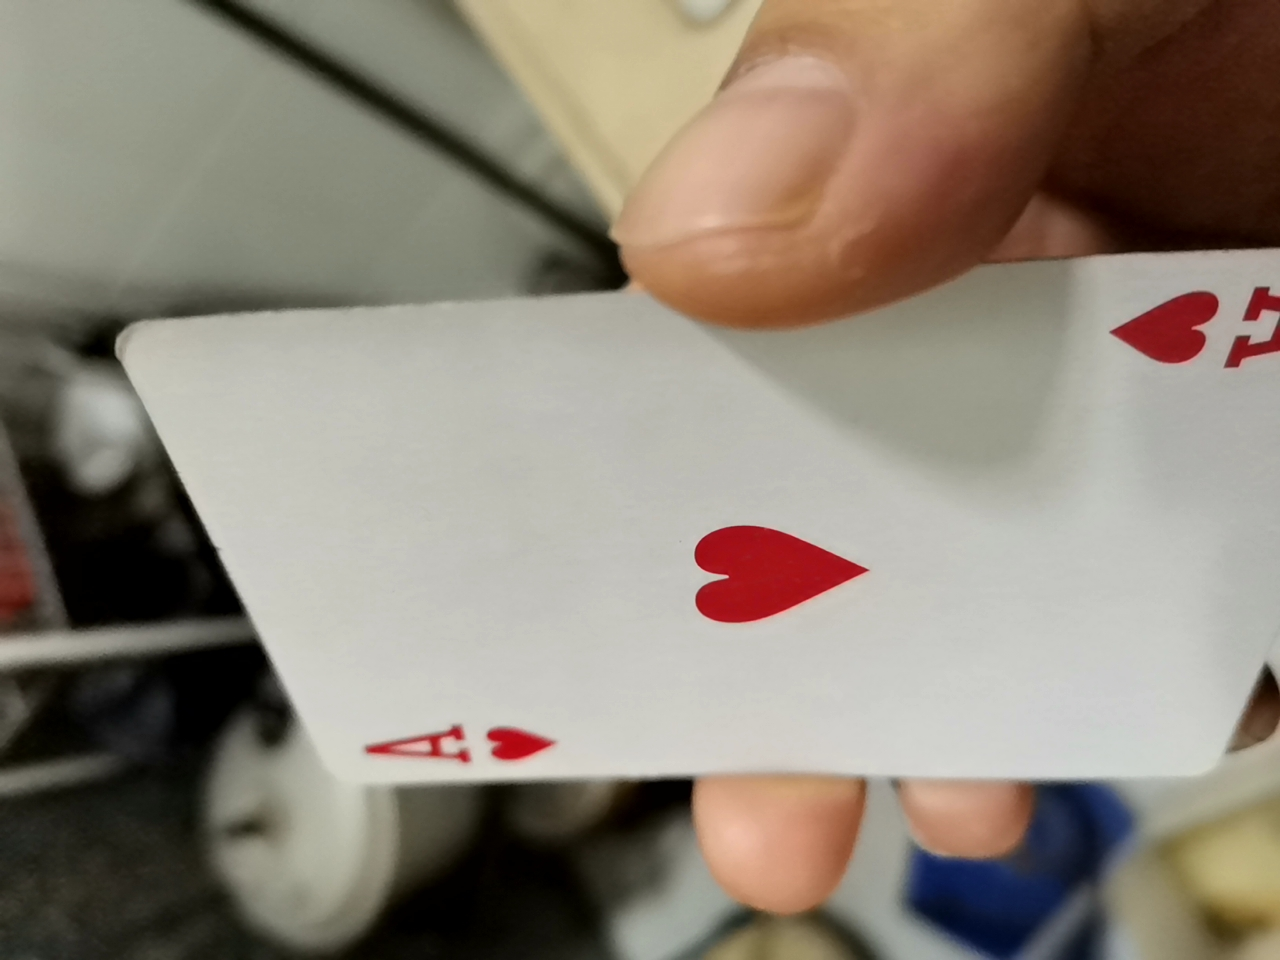hx a: (83, 207, 1273, 830)
